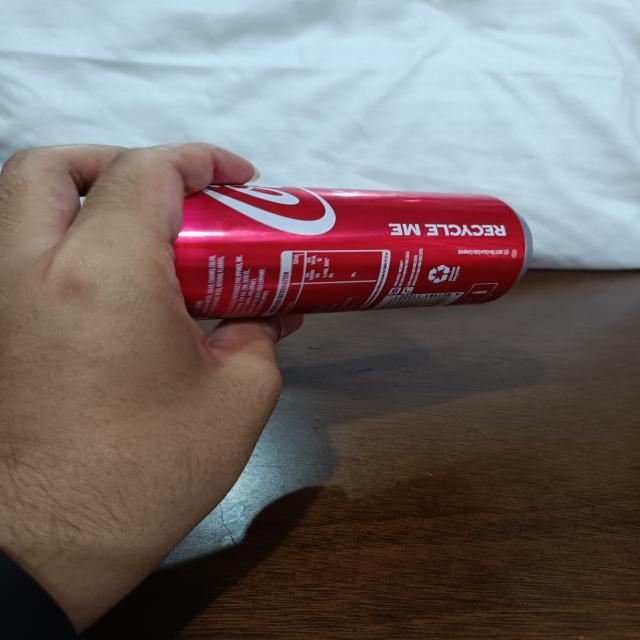coke: (129, 188, 537, 308)
